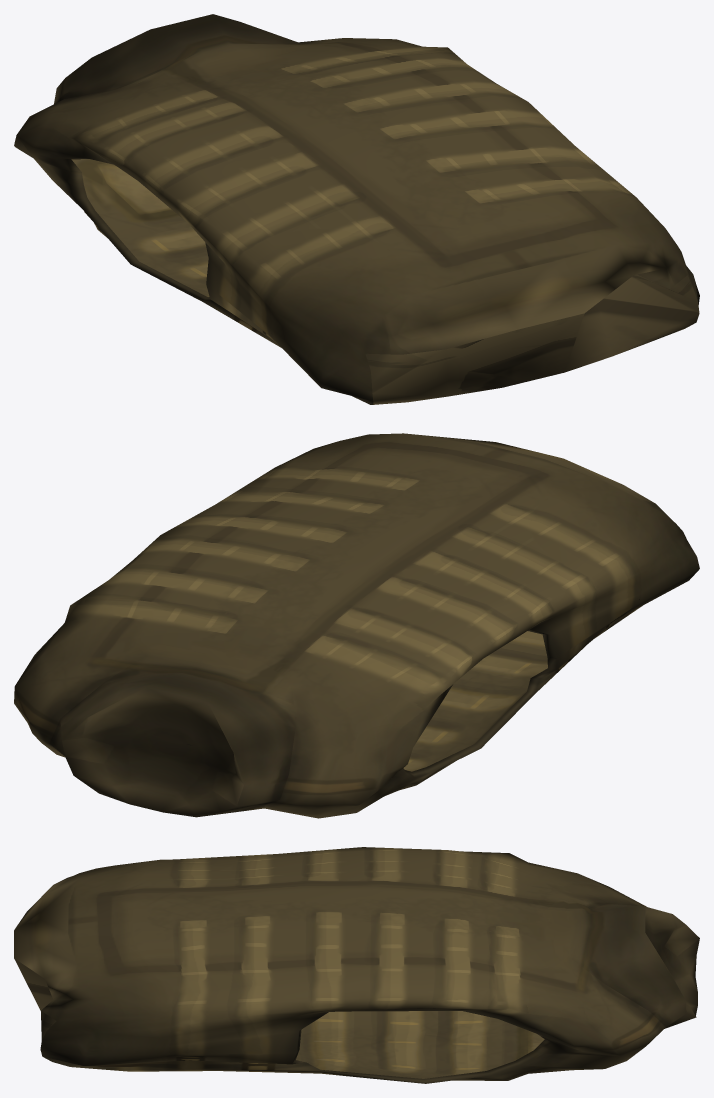
Rendered from Interceptor_v_WorldItem.fbx.
3 renders of one model, top to bottom at view 1: azimuth 30°, elevation 25°; view 2: azimuth 150°, elevation 25°; view 3: azimuth 270°, elevation 25°, orthographic. The views are drawn at different scales.
Parts seen in each view (by area): view 1: INTERCEPTOR; view 2: INTERCEPTOR; view 3: INTERCEPTOR.
Part boxes in pixels (left/top/right/bottom): INTERCEPTOR: left=14, top=14, right=699, bottom=404; INTERCEPTOR: left=14, top=433, right=699, bottom=818; INTERCEPTOR: left=14, top=847, right=699, bottom=1083.
Size of the model in its own units: 0.3446 by 0.0677 by 0.1924.
